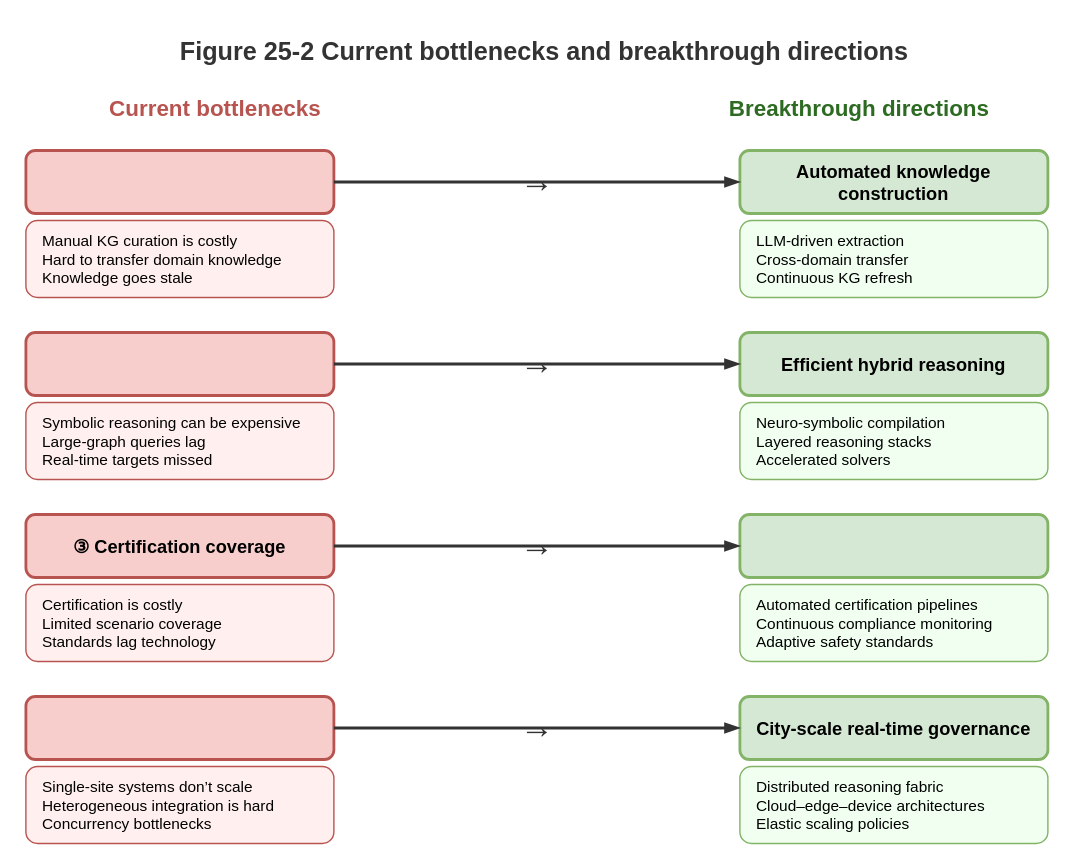
This 1072x868 diagram has some shape labels left out. Here are the shapes that lost their labels. From the top down, the box of each, then its label:
(24, 148, 335, 214): ① Knowledge acquisition
(24, 330, 335, 396): ② Reasoning efficiency
(738, 512, 1049, 578): Lifecycle-wide certification
(24, 694, 335, 760): ④ Deployment scale
